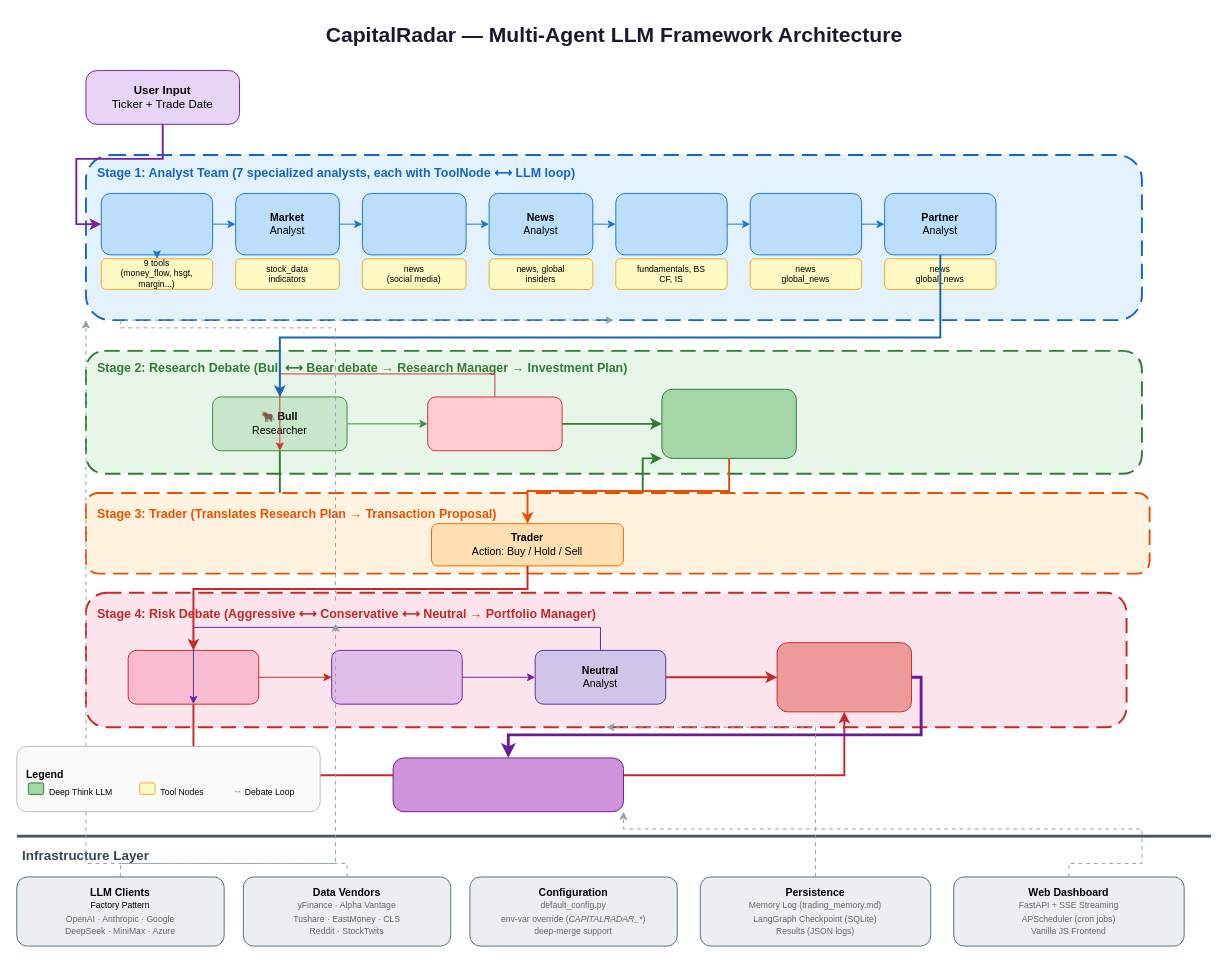
This 1228x963 diagram has some shape labels left out. The shapes that lost their labels are listed below. From the top down, each one's box as (x1, y1, x2, y2) in pixels, then its label:
(100, 192, 213, 255): Capital Flow Analyst ⭐ Anchor
(361, 192, 466, 255): Sentiment Analyst
(615, 192, 727, 255): Fundamentals Analyst
(749, 192, 862, 255): Competitor Analyst
(427, 396, 562, 451): 🐻 Bear Researcher
(661, 388, 796, 458): Research Manager Deep Think LLM
(127, 649, 259, 704): Aggressive Analyst
(331, 649, 462, 704): Conservative Analyst
(776, 642, 912, 712): Portfolio Manager Deep Think LLM
(392, 757, 624, 812): Final Trade Decision Rating + Thesis + Price Target
